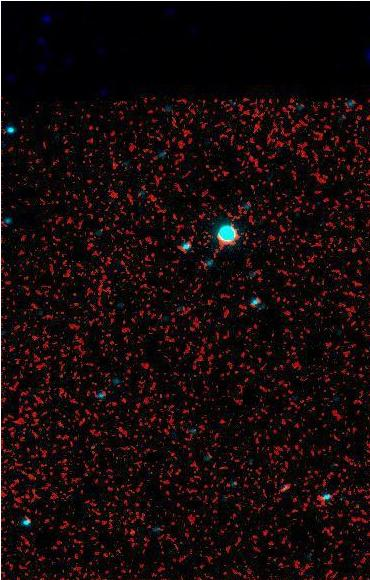star: (117, 514, 147, 544)
